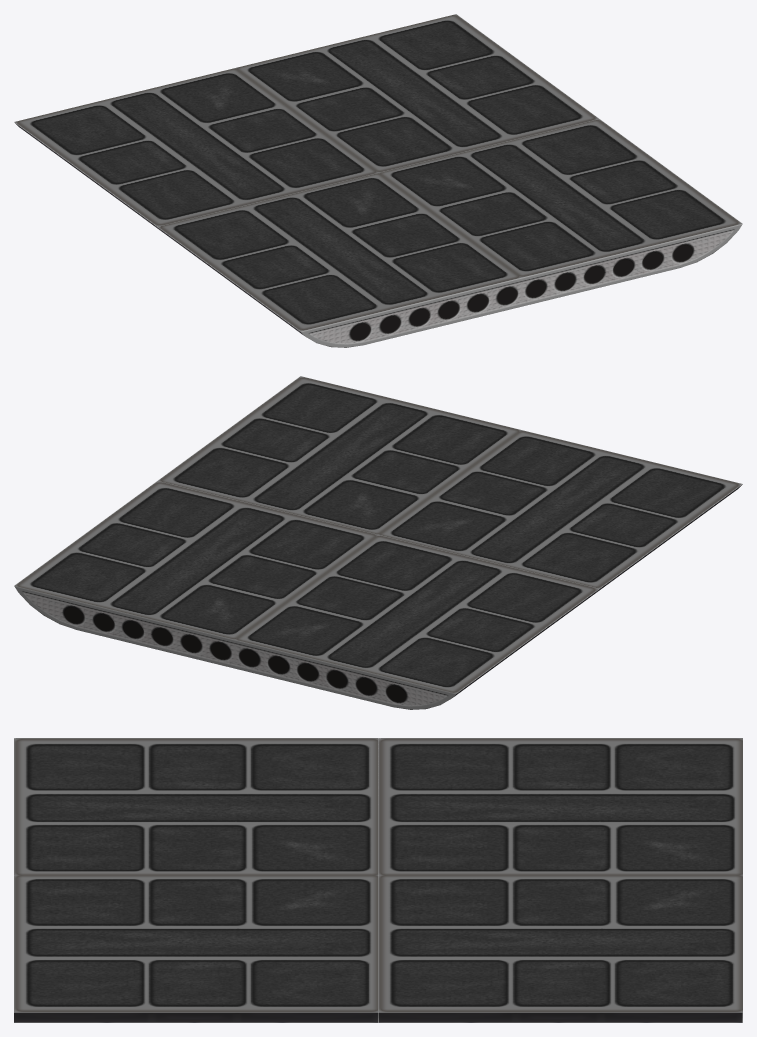
File: Flatbed2uStd.FBX
3 views of the same model, one above another, from view 1: azimuth 30°, elevation 25°; view 2: azimuth 150°, elevation 25°; view 3: azimuth 270°, elevation 25° (orthographic). The views are drawn at different scales.
Parts seen in each view (by area): view 1: Flatbed1U002, Flatbed1U001, Flatbed1U004, Flatbed1U003; view 2: Flatbed1U004, Flatbed1U003, Flatbed1U002, Flatbed1U001; view 3: Flatbed1U003, Flatbed1U001, Flatbed1U004, Flatbed1U002.
Part boxes in pixels (x1=…): Flatbed1U002: x1=157, y1=173, x2=521, y2=347; Flatbed1U001: x1=379, y1=119, x2=742, y2=306; Flatbed1U004: x1=14, y1=68, x2=377, y2=230; Flatbed1U003: x1=235, y1=14, x2=599, y2=172; Flatbed1U004: x1=235, y1=535, x2=599, y2=709; Flatbed1U003: x1=14, y1=481, x2=378, y2=668; Flatbed1U002: x1=379, y1=430, x2=742, y2=592; Flatbed1U001: x1=157, y1=376, x2=521, y2=534; Flatbed1U003: x1=378, y1=875, x2=742, y2=1022; Flatbed1U001: x1=14, y1=875, x2=378, y2=1022; Flatbed1U004: x1=378, y1=738, x2=742, y2=875; Flatbed1U002: x1=14, y1=738, x2=378, y2=875.
Size of what is drawn, in the model's own units: 1.5 by 0.094 by 1.69.
